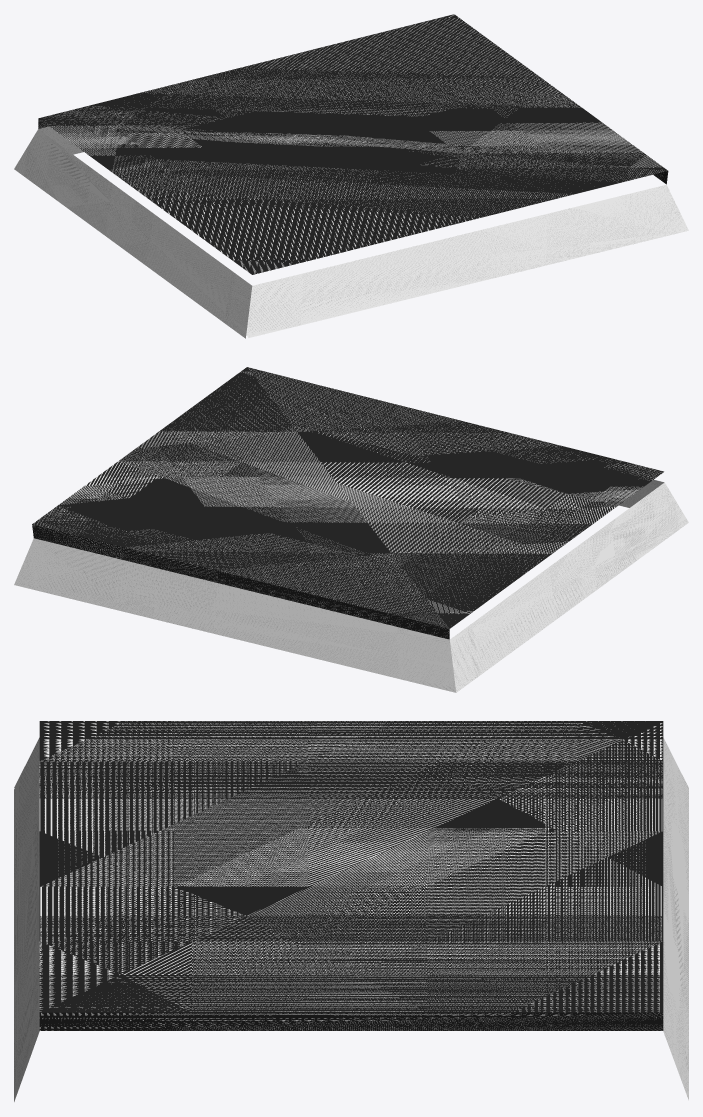
File: original-50.obj
The picture shows the model from 3 angles, top to bottom: view 1: azimuth 30°, elevation 25°; view 2: azimuth 150°, elevation 25°; view 3: azimuth 270°, elevation 25°; orthographic projection. The views are drawn at different scales.
Parts seen in each view (by area): view 1: tus48/tus/mesh1/mesh1-geometry#mesh1-geometry; view 2: tus48/tus/mesh1/mesh1-geometry#mesh1-geometry; view 3: tus48/tus/mesh1/mesh1-geometry#mesh1-geometry.
Part boxes in pixels (x1=…): tus48/tus/mesh1/mesh1-geometry#mesh1-geometry: x1=14, y1=14, x2=688, y2=338; tus48/tus/mesh1/mesh1-geometry#mesh1-geometry: x1=14, y1=367, x2=688, y2=692; tus48/tus/mesh1/mesh1-geometry#mesh1-geometry: x1=14, y1=721, x2=688, y2=1101.
Size of the model in its own units: 0.0476 by 0.00578 by 0.0432.
